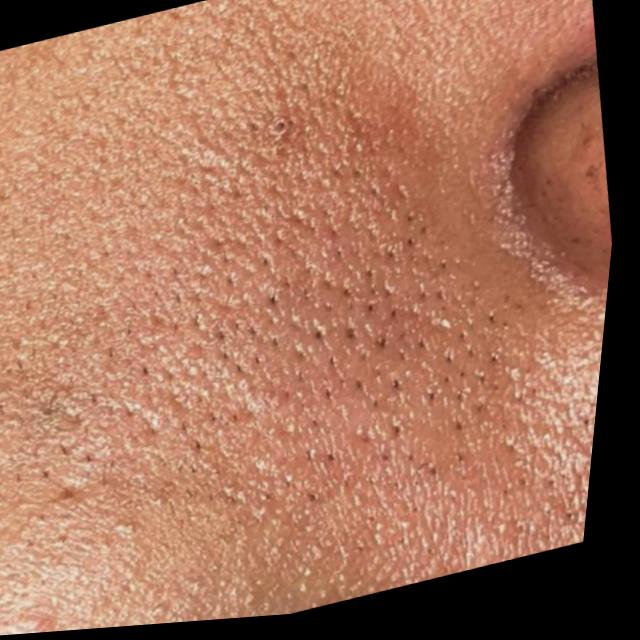blackhead: (81, 136, 613, 519)
